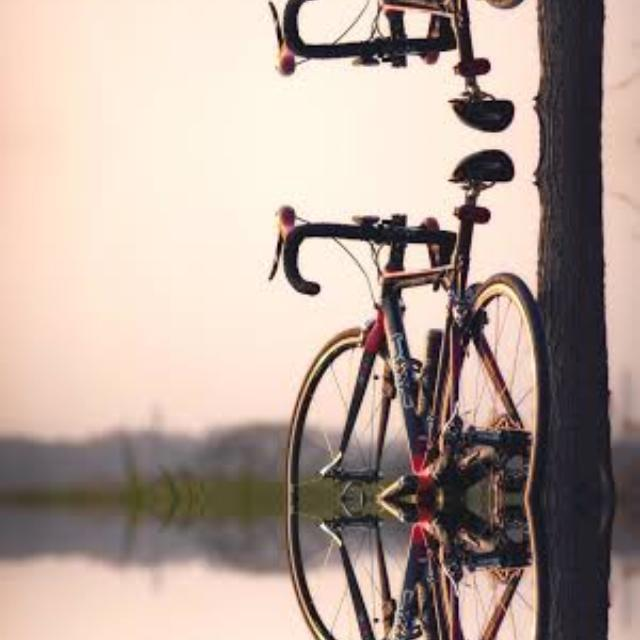obstacle: (242, 148, 558, 498), (241, 499, 558, 640), (241, 0, 558, 132)
